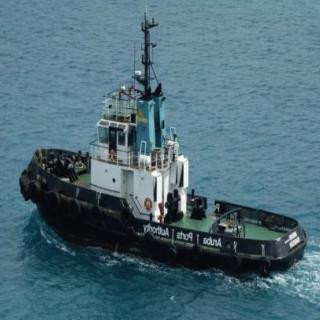Tug Boat: (7, 2, 302, 275)
